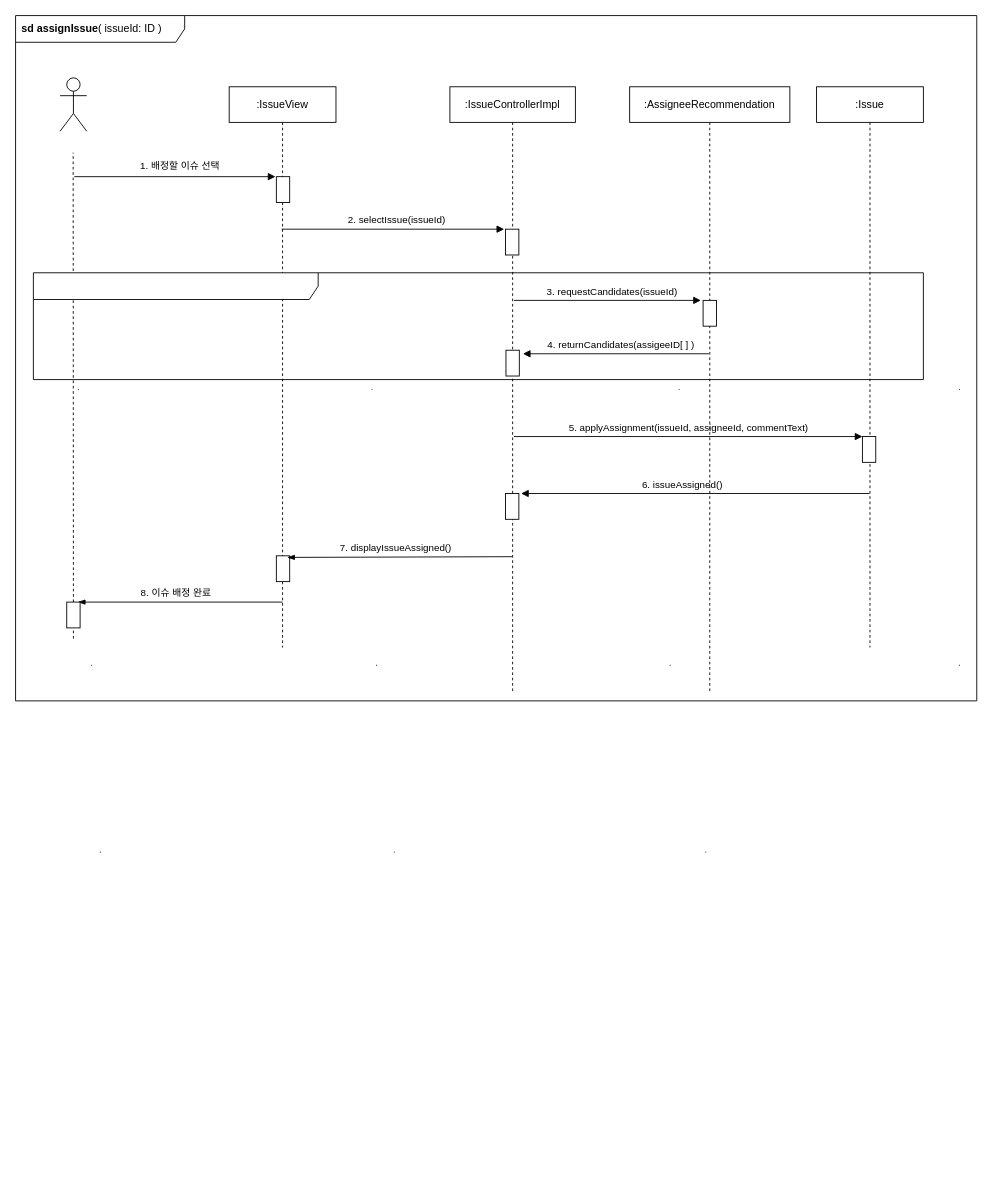
The diagram is 992 pixels wide and 1197 high, and some of its shapes have lost their labels. Here are the shapes that lost their labels. From the top down, the centre of each, then its label:
the point at 73,104: :PL
the point at 477,326: opt [담당자 추천이 필요하면]
